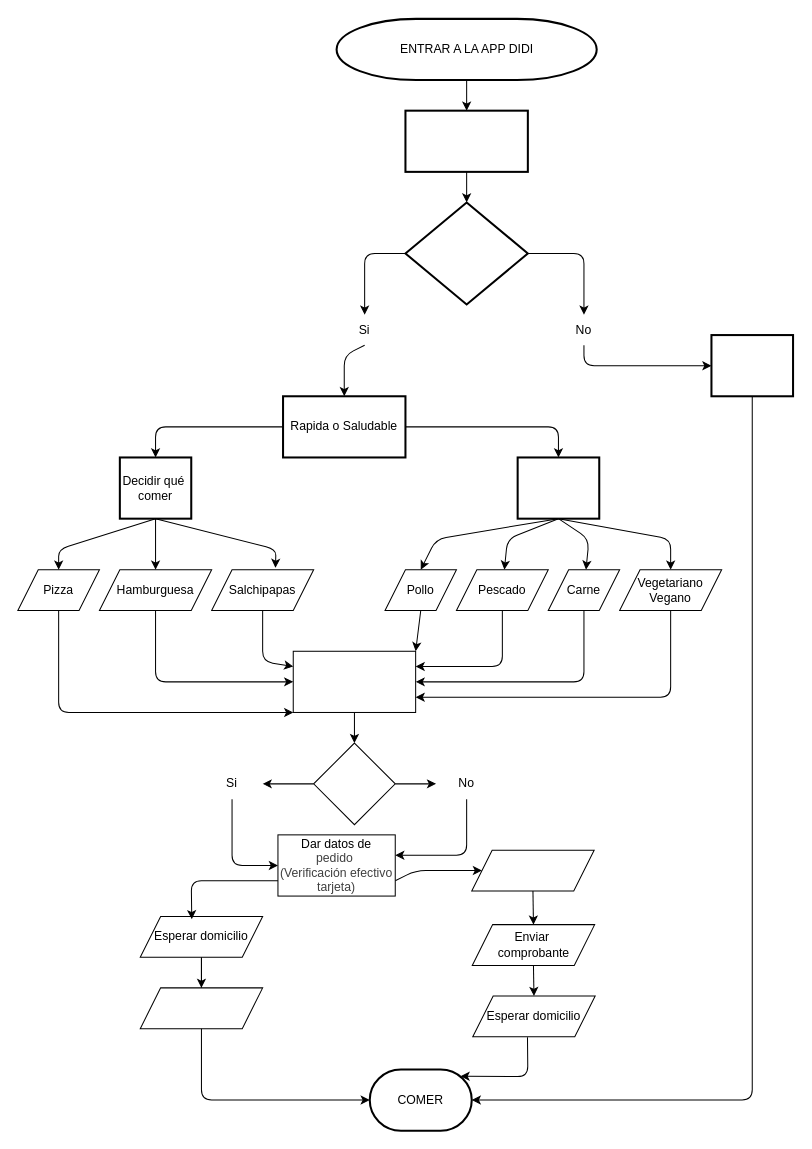
This 812x1149 diagram has some shape labels left out. Here are the shapes that lost their labels. From the top down, the centre of each, then its label:
At point 466,140: "Buscar el restaurante para pedir".
At point 466,253: "¿Quiero algo fácil de comer?".
At point 752,365: "Cocinar algo que quiera".
At point 558,487: "Pedir algo saludable".
At point 354,681: "Decidir qué contiene mi pedido".
At point 354,783: "¿Pago en efectivo?".
At point 532,870: "Pagar domicilio".
At point 201,1008: "P agar domicilio".
